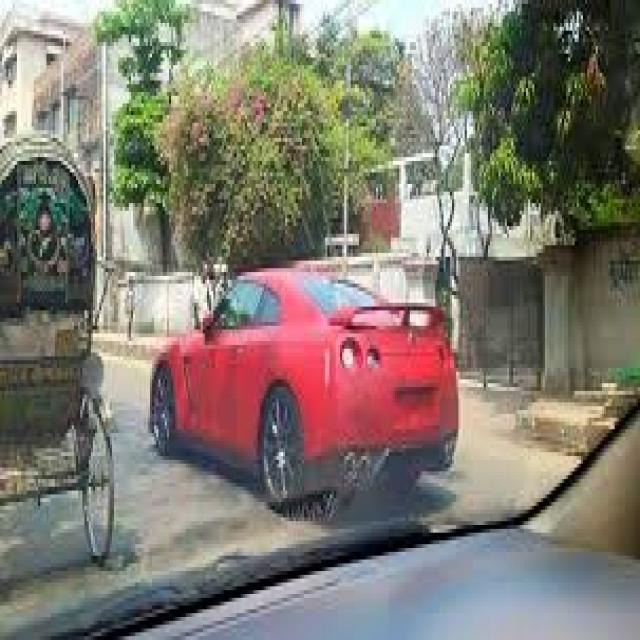red: (148, 258, 465, 501)
